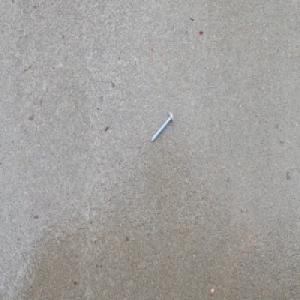Nail: (150, 111, 174, 143)
